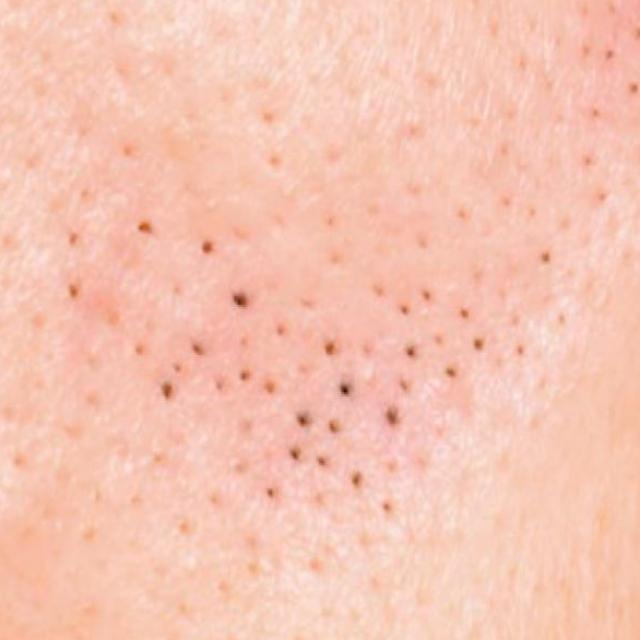blackhead: (93, 200, 576, 538)
